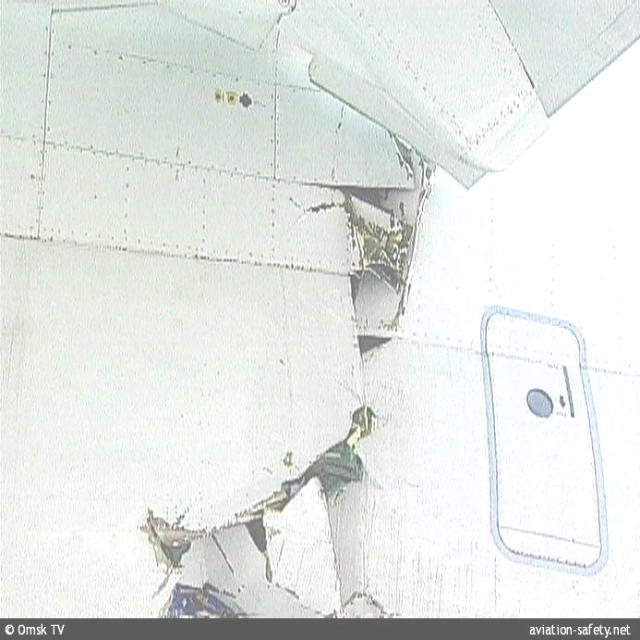crack: (128, 125, 444, 640)
